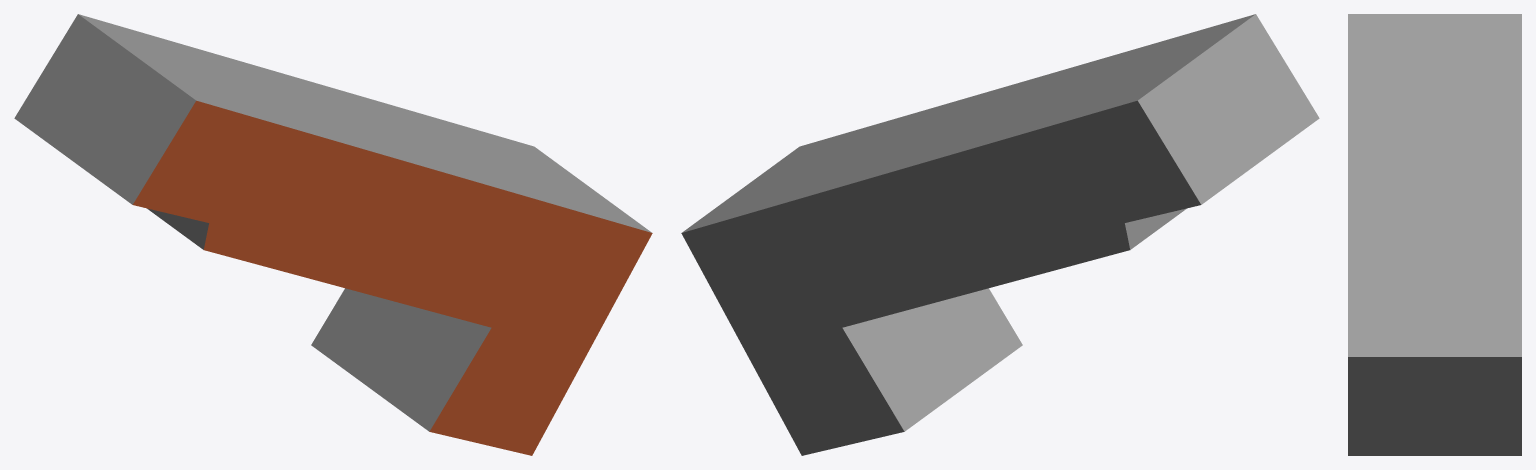
The model's file is construction_6858_assumed_A_Casa_h6m.obj.
3 views of the same model, side by side, from view 1: azimuth 30°, elevation 25°; view 2: azimuth 150°, elevation 25°; view 3: azimuth 270°, elevation 25° (orthographic). The views are drawn at different scales.
Parts seen in each view (by area): view 1: construction_6858_assumed_A_Casa; view 2: construction_6858_assumed_A_Casa; view 3: construction_6858_assumed_A_Casa.
Boxes of the visible parts, x1,y1,x2,y2 form: construction_6858_assumed_A_Casa: (14,14,652,455); construction_6858_assumed_A_Casa: (681,14,1319,455); construction_6858_assumed_A_Casa: (1348,14,1521,455).
Bounding box in the file's own units: 15.23 × 12.23 × 6.
